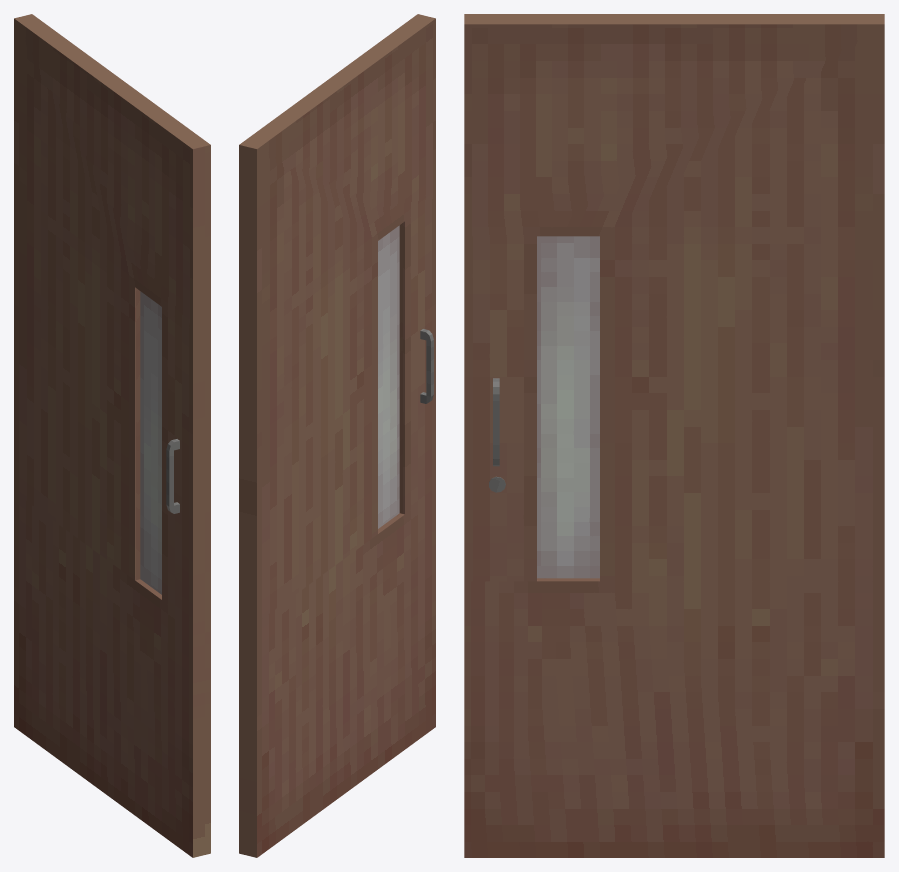
File: Door.1.fbx
3 renders of one model, left to right at view 1: azimuth 30°, elevation 25°; view 2: azimuth 150°, elevation 25°; view 3: azimuth 270°, elevation 25°, orthographic. The views are drawn at different scales.
Visible parts, largest first — view 1: Door.1; view 2: Door.1; view 3: Door.1.
Part boxes in pixels (x1=…): Door.1: x1=14, y1=14, x2=210, y2=857; Door.1: x1=239, y1=14, x2=435, y2=857; Door.1: x1=464, y1=14, x2=884, y2=857.
Bounding box in the file's own units: 22.83 × 390 × 178.
Materials: 1 (1 with a texture image).
